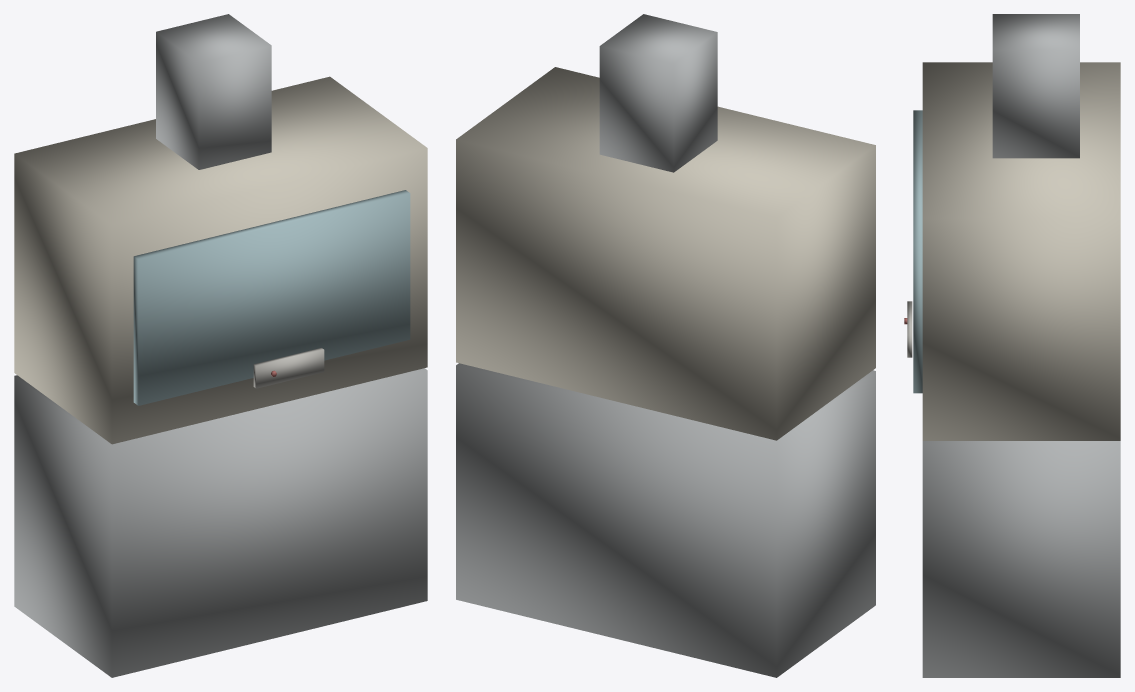
File: fume_hood__compact.glb
3 renders of one model, left to right at view 1: azimuth 30°, elevation 25°; view 2: azimuth 150°, elevation 25°; view 3: azimuth 270°, elevation 25°, orthographic.
Parts seen in each view (by area): view 1: world; view 2: world; view 3: world.
Part boxes in pixels (bbox=[...]): world: bbox=[14, 14, 427, 677]; world: bbox=[456, 14, 875, 677]; world: bbox=[904, 14, 1120, 677].
Bounding box in the file's own units: 1.09 × 1.85 × 0.6394.
